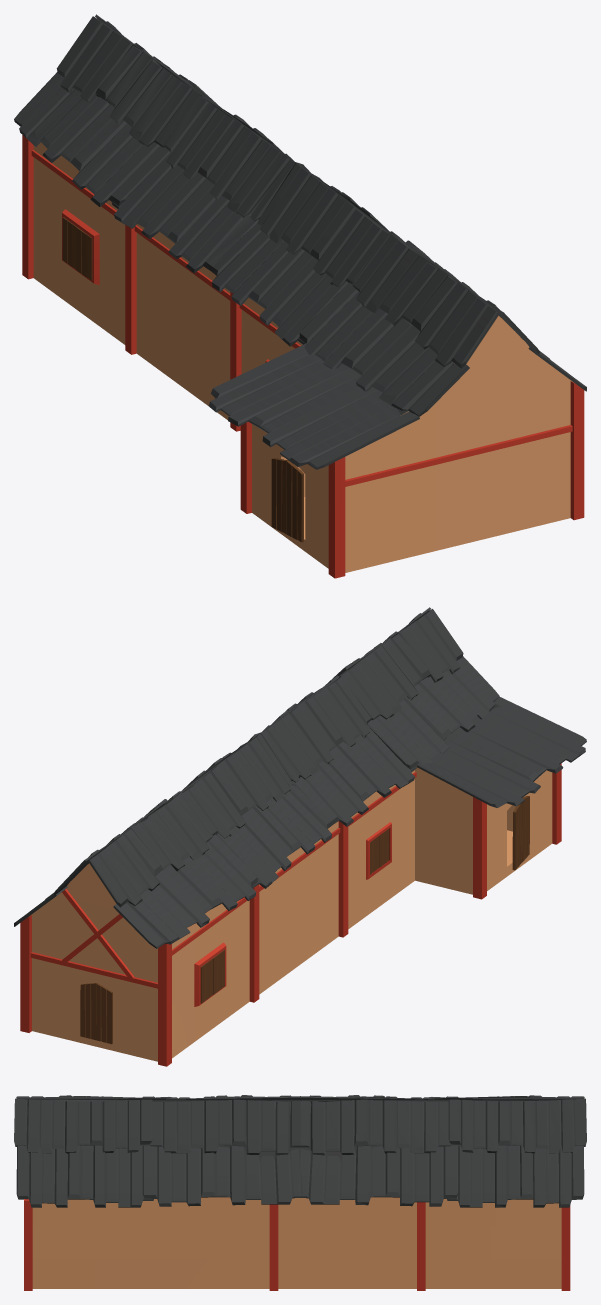
File: house_4.fbx
3 views of the same model, one above another, from view 1: azimuth 30°, elevation 25°; view 2: azimuth 150°, elevation 25°; view 3: azimuth 270°, elevation 25° (orthographic). The views are drawn at different scales.
Parts seen in each view (by area): view 1: Roof_RedPlanks.001, 立方体.006, House1_Exteriour.011, House1_Exteriour.014; view 2: Roof_RedPlanks.001, 立方体.006, House1_Exteriour.013, House1_Exteriour.011, House1_Exteriour.014, House1_Exteriour.012; view 3: Roof_RedPlanks.001, 立方体.006.
Part boxes in pixels (bbox=[...]): Roof_RedPlanks.001: bbox=[14, 14, 586, 469]; 立方体.006: bbox=[22, 135, 584, 578]; House1_Exteriour.011: bbox=[271, 458, 303, 542]; House1_Exteriour.014: bbox=[62, 217, 92, 280]; Roof_RedPlanks.001: bbox=[14, 607, 586, 948]; 立方体.006: bbox=[20, 703, 561, 1066]; House1_Exteriour.013: bbox=[80, 983, 112, 1044]; House1_Exteriour.011: bbox=[512, 796, 529, 870]; House1_Exteriour.014: bbox=[200, 949, 224, 1003]; House1_Exteriour.012: bbox=[370, 829, 389, 874]; Roof_RedPlanks.001: bbox=[14, 1095, 586, 1207]; 立方体.006: bbox=[24, 1100, 570, 1290].
Bounding box in the file's own units: 275 × 208 × 658.
